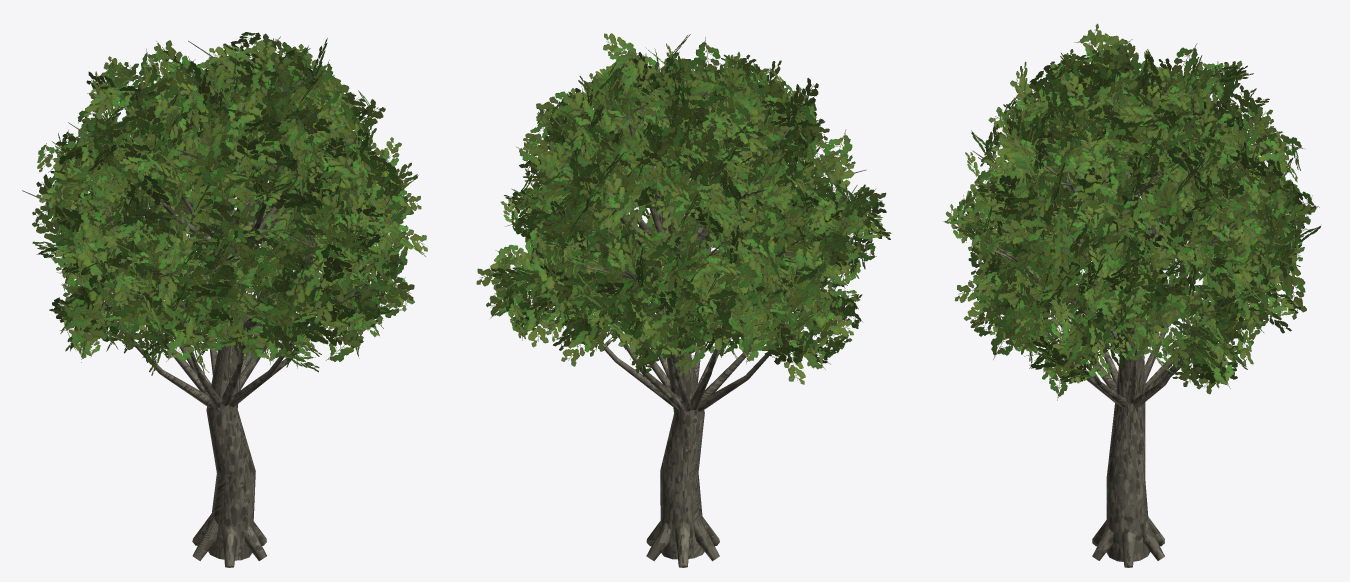
File: G1_crossing_west-L7ZmOP6k.glb
The picture shows the model from 3 angles, left to right: view 1: azimuth 30°, elevation 25°; view 2: azimuth 150°, elevation 25°; view 3: azimuth 270°, elevation 25°; orthographic projection.
Parts seen in each view (by area): view 1: G1_crossing_west_foliage, G1_crossing_west_branches; view 2: G1_crossing_west_foliage, G1_crossing_west_branches; view 3: G1_crossing_west_foliage, G1_crossing_west_branches.
Part boxes in pixels (x1=…): G1_crossing_west_foliage: x1=32, y1=32, x2=427, y2=375; G1_crossing_west_branches: x1=22, y1=40, x2=395, y2=567; G1_crossing_west_foliage: x1=476, y1=33, x2=891, y2=384; G1_crossing_west_branches: x1=532, y1=51, x2=866, y2=567; G1_crossing_west_foliage: x1=943, y1=23, x2=1320, y2=400; G1_crossing_west_branches: x1=969, y1=64, x2=1298, y2=567.
Size of the model in its own units: 6 by 8.03 by 5.78.
Materials: 2 (2 with a texture image).
